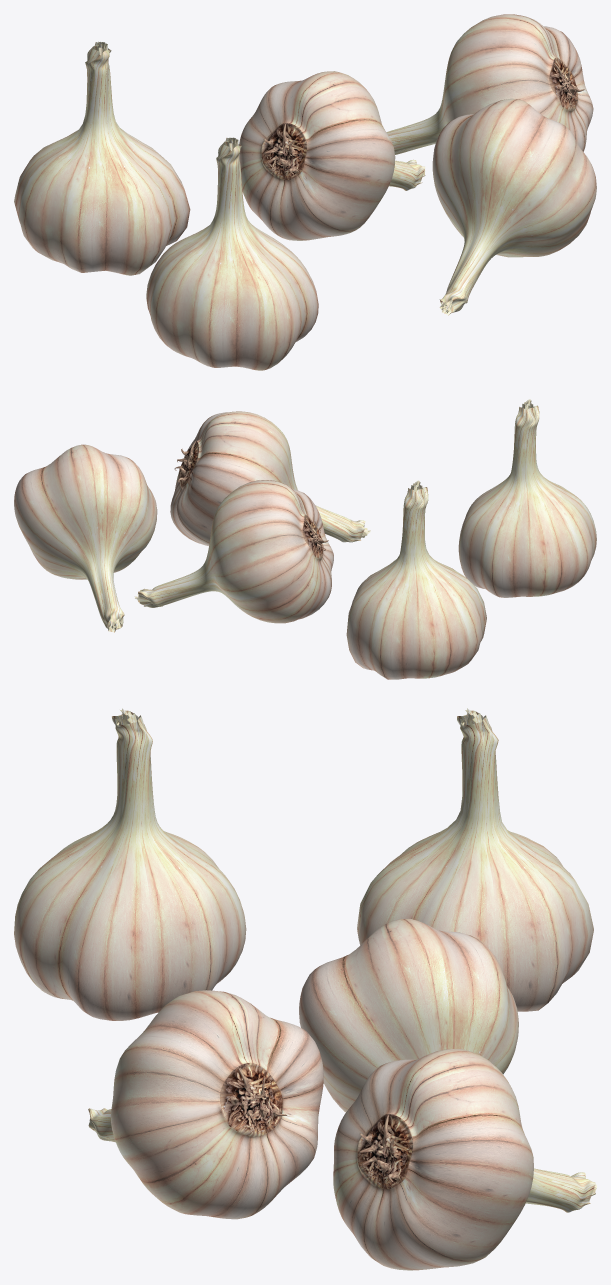
The model's file is Sarimsoq.fbx.
The picture shows the model from 3 angles, top to bottom: view 1: azimuth 30°, elevation 25°; view 2: azimuth 150°, elevation 25°; view 3: azimuth 270°, elevation 25°; orthographic projection. The views are drawn at different scales.
Parts seen in each view (by area): view 1: Open3DModel (1) (6); view 2: Open3DModel (1) (6); view 3: Open3DModel (1) (6).
Boxes of the visible parts, x1,y1,x2,y2 form: Open3DModel (1) (6): [14, 14, 596, 370]; Open3DModel (1) (6): [14, 399, 596, 679]; Open3DModel (1) (6): [14, 708, 596, 1270].
Bounding box in the file's own units: 861 × 336 × 604.
Materials: 1 (1 with a texture image).
